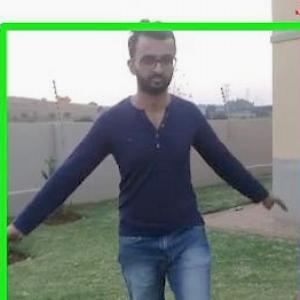land: (1, 32, 300, 299)
